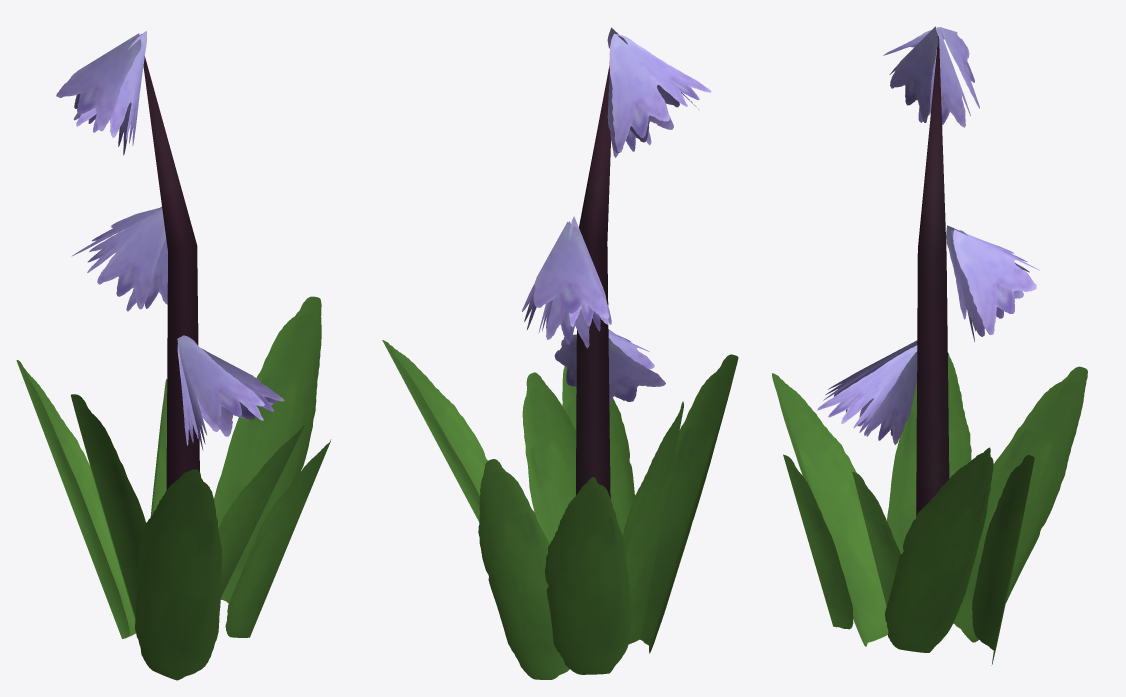
Rendered from Hyacinthus.fbx.
3 renders of one model, left to right at view 1: azimuth 30°, elevation 25°; view 2: azimuth 150°, elevation 25°; view 3: azimuth 270°, elevation 25°, orthographic. The views are drawn at different scales.
Visible parts, largest first — view 1: Hyacinthus; view 2: Hyacinthus; view 3: Hyacinthus.
Part boxes in pixels (x1=…): Hyacinthus: x1=16, y1=31, x2=331, y2=680; Hyacinthus: x1=382, y1=27, x2=738, y2=679; Hyacinthus: x1=772, y1=26, x2=1087, y2=665.
Size of the model in its own units: 20.56 by 43.1 by 21.
